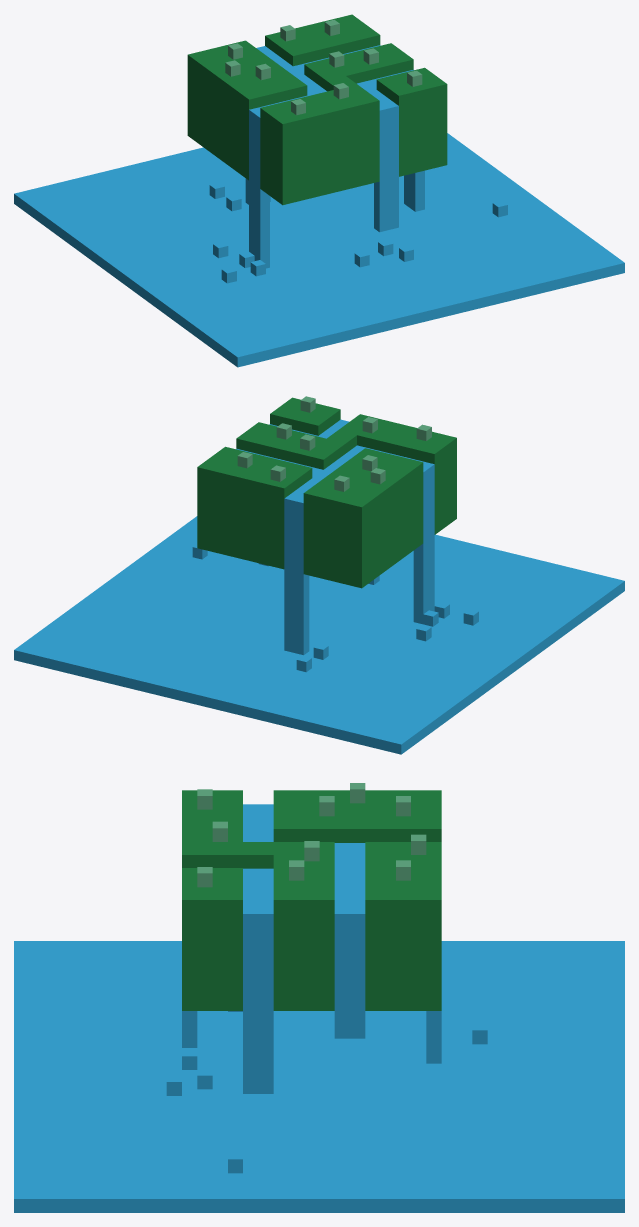
File: Tile8.obj
3 renders of one model, top to bottom at view 1: azimuth 30°, elevation 25°; view 2: azimuth 150°, elevation 25°; view 3: azimuth 270°, elevation 25°, orthographic. The views are drawn at different scales.
Parts seen in each view (by area): view 1: Tile8; view 2: Tile8; view 3: Tile8.
Part boxes in pixels (left/top/right/bottom): Tile8: left=14, top=14, right=624, bottom=367; Tile8: left=14, top=396, right=624, bottom=754; Tile8: left=14, top=783, right=624, bottom=1212.
Size of the model in its own units: 40 by 18 by 40.
Materials: 1 (1 with a texture image).
